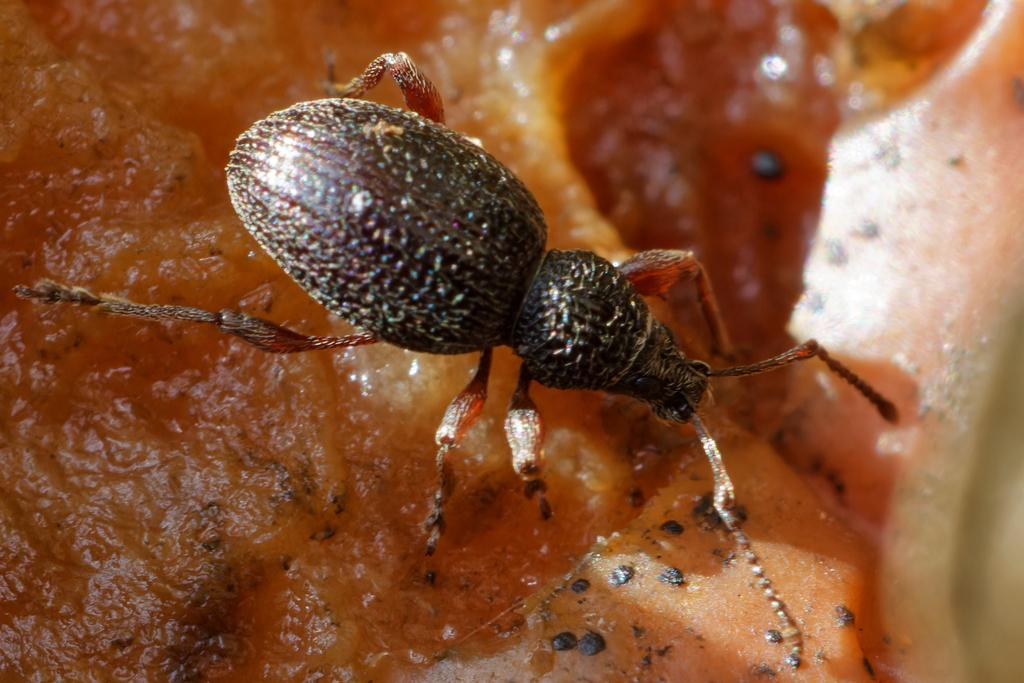weevils: (0, 0, 964, 683)
